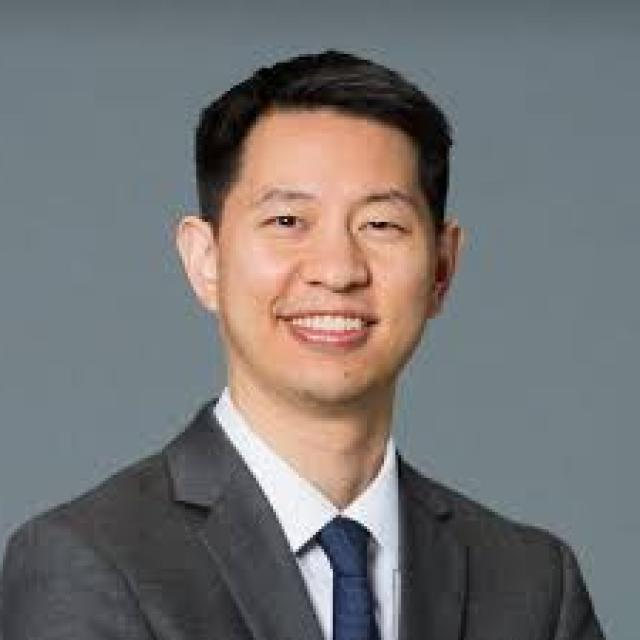normal_face: (182, 62, 463, 410)
